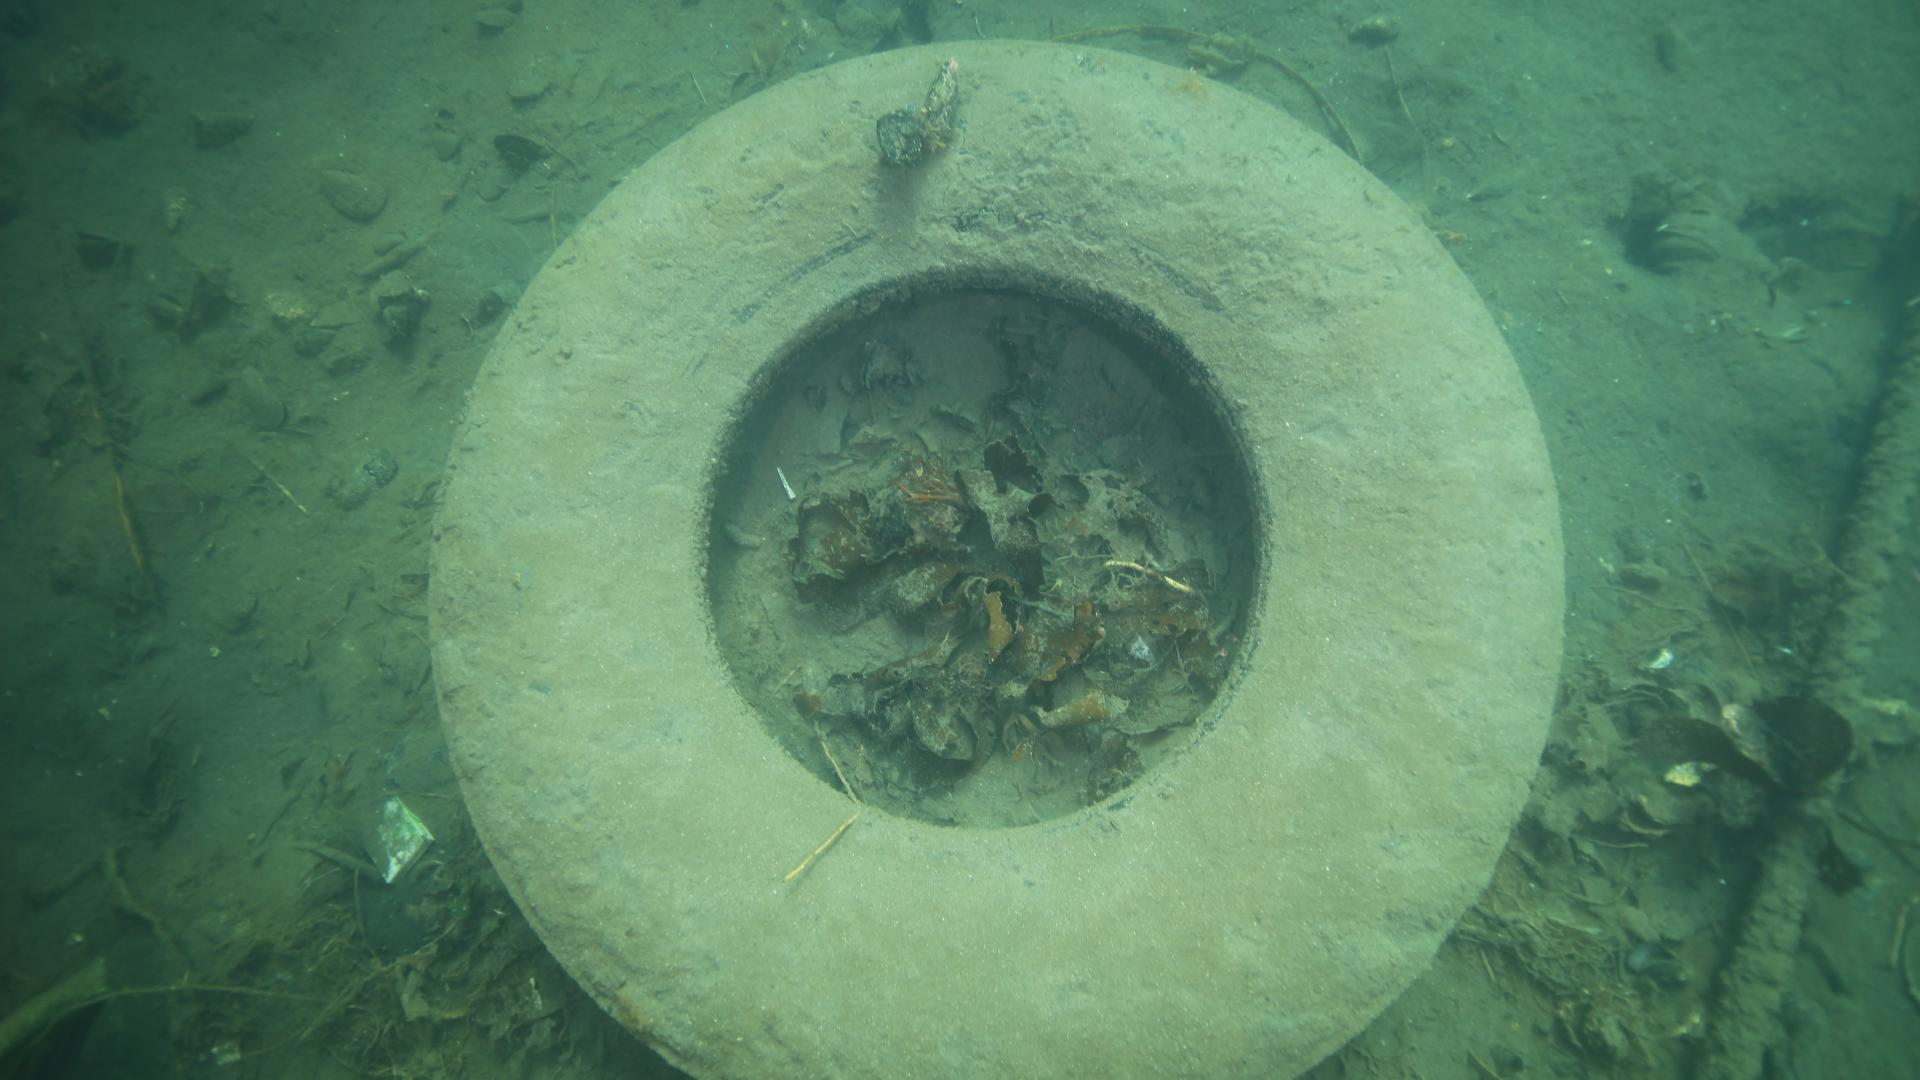rope: (1685, 211, 1920, 1080)
tire: (419, 36, 1578, 1080)
